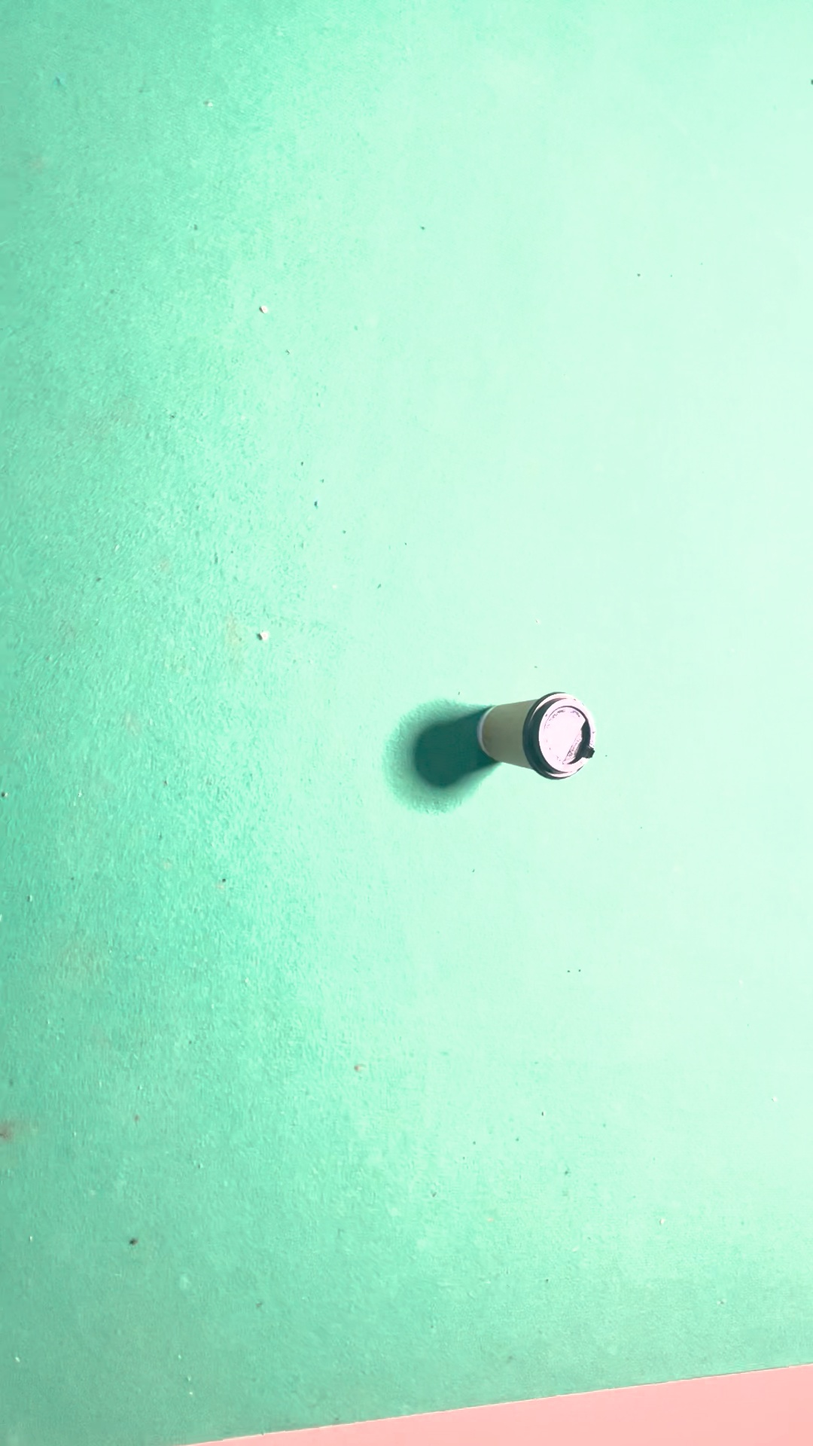cup: (397, 740, 470, 1096)
